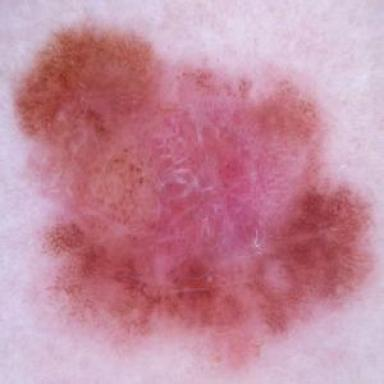Melanoma: (16, 27, 370, 367)
